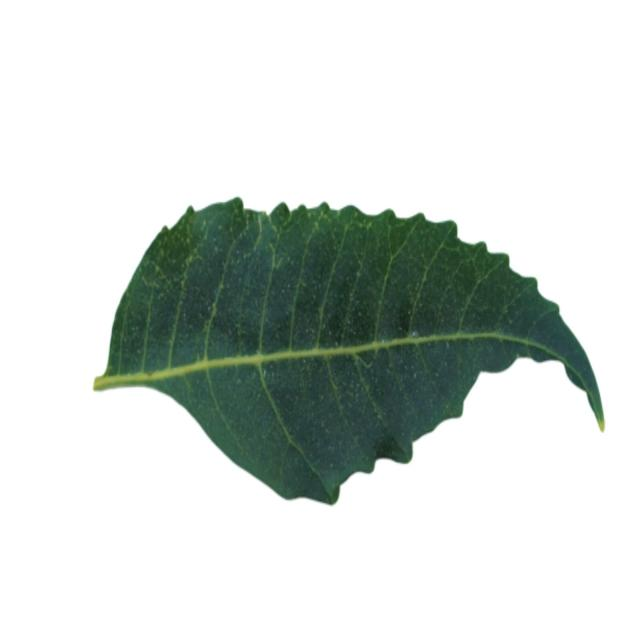Medicinal-Neem: (91, 194, 606, 504)
